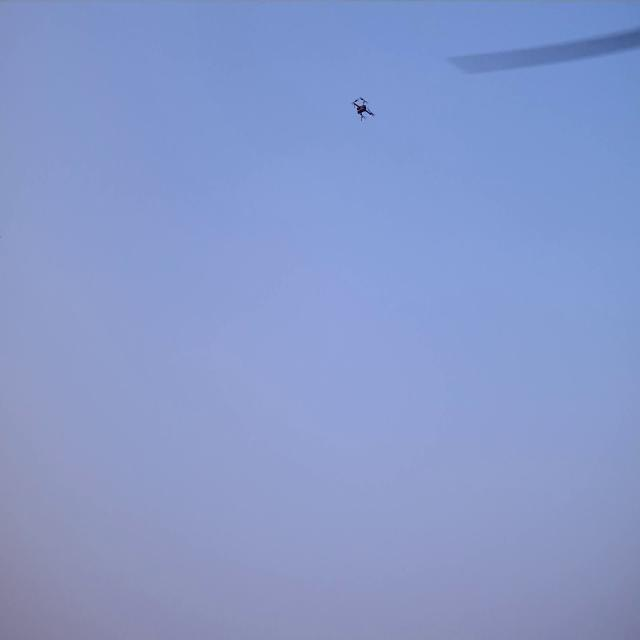UAV: (353, 98, 372, 120)
